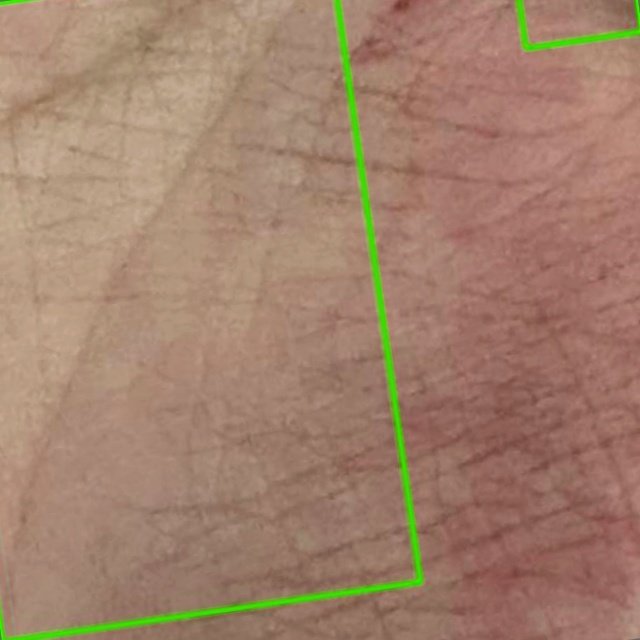Contact Dermatitis: (0, 0, 420, 639)
